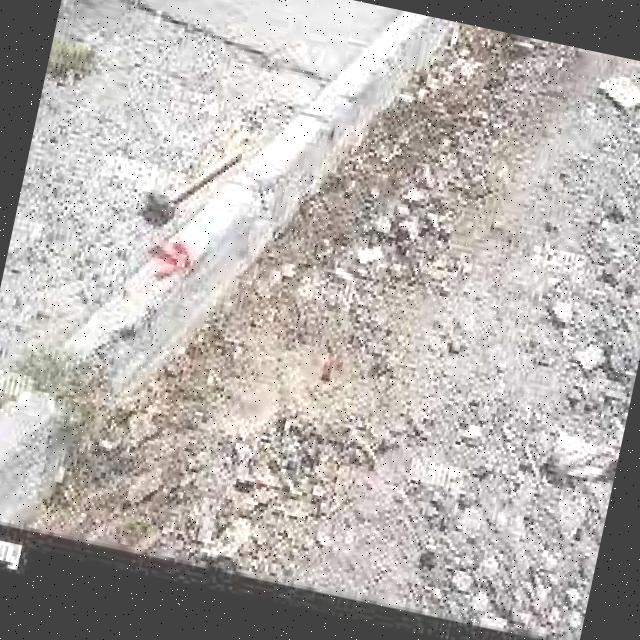curb: (1, 229, 243, 562), (149, 150, 339, 309), (306, 1, 466, 183)
